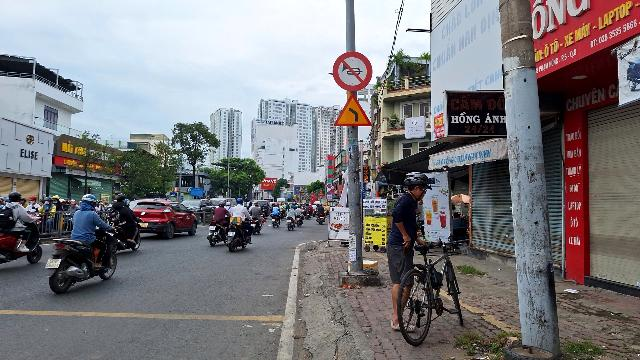cam-bop-coi: (332, 51, 373, 92)
cho-ngoat-nguy-hiem-ben-trai: (333, 93, 372, 126)
